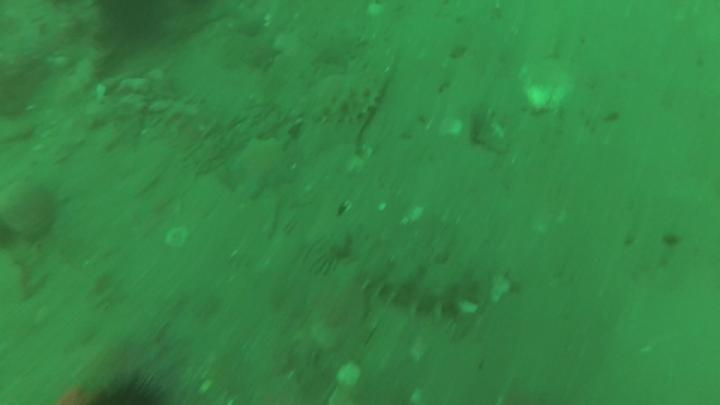holothurian: (360, 256, 472, 316), (307, 91, 377, 122)
scallop: (521, 60, 574, 109)
starfish: (220, 141, 296, 197)
